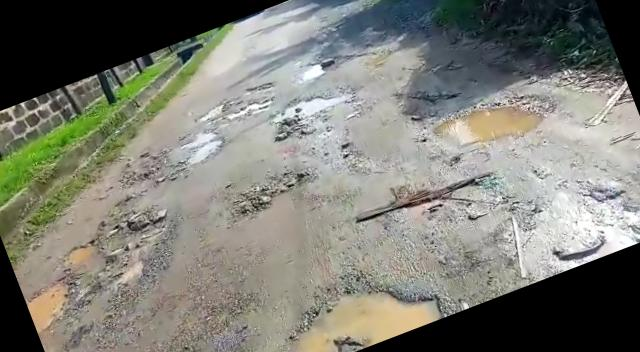pothole: (257, 241, 467, 352), (56, 203, 173, 281), (444, 76, 560, 154), (265, 78, 357, 134), (21, 270, 87, 334), (178, 122, 232, 168), (218, 95, 274, 127), (296, 61, 326, 84), (246, 77, 275, 98)
